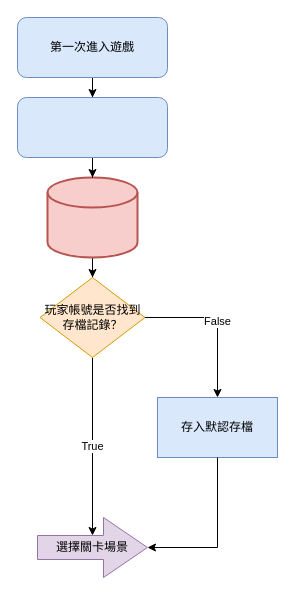
Some shapes in this 295 by 595 pixel diagram are drawn without their labels. Here are the shapes that lost their labels. From the top down, the centre of each, then its label:
point 92,127: 註冊、登入遊戲
point 92,217: Save Manager
